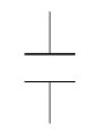Capacitor: (18, 35, 81, 98)
